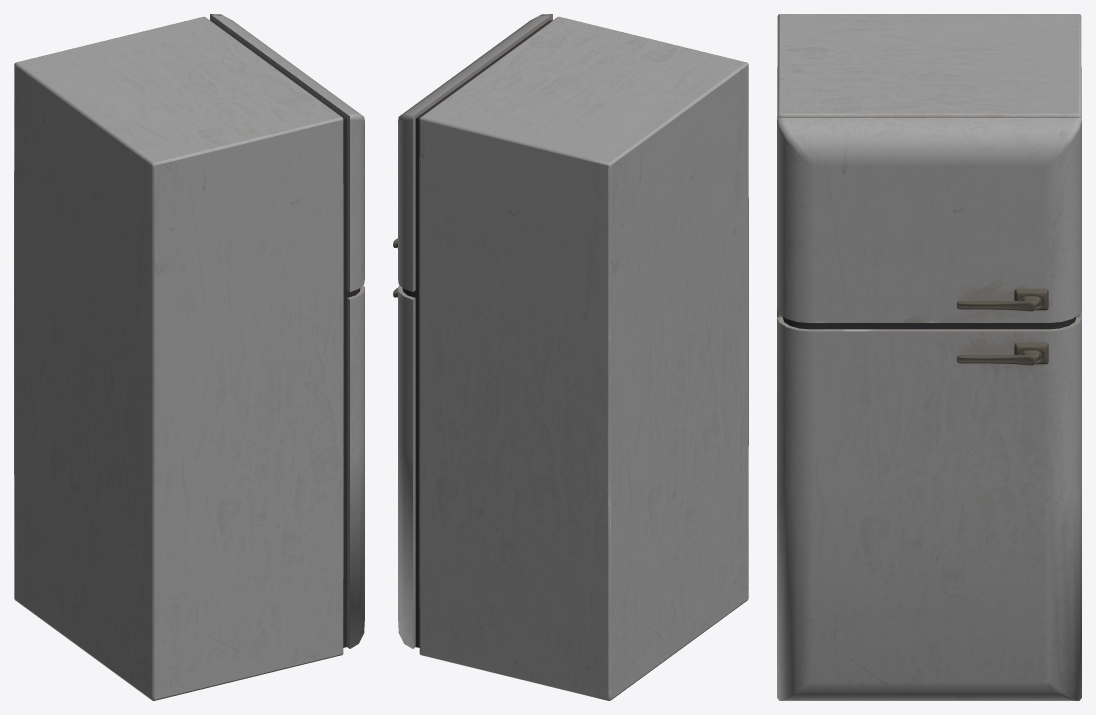
The model's file is old_fridge.glb.
3 renders of one model, left to right at view 1: azimuth 30°, elevation 25°; view 2: azimuth 150°, elevation 25°; view 3: azimuth 270°, elevation 25°, orthographic. The views are drawn at different scales.
Visible parts, largest first — view 1: OldFridge.fbx_Shell_0, Fridge_BottomDoor, Fridge_TopDoor; view 2: OldFridge.fbx_Shell_0, Fridge_BottomDoor, Fridge_TopDoor; view 3: Fridge_BottomDoor, Fridge_TopDoor, OldFridge.fbx_Shell_0.
Boxes of the visible parts, box(x1,y1,x2,y2) form: OldFridge.fbx_Shell_0: box(14, 16, 343, 700); Fridge_BottomDoor: box(343, 285, 364, 648); Fridge_TopDoor: box(210, 14, 364, 294); OldFridge.fbx_Shell_0: box(419, 16, 748, 700); Fridge_BottomDoor: box(393, 285, 419, 648); Fridge_TopDoor: box(393, 14, 552, 294); Fridge_BottomDoor: box(777, 317, 1081, 700); Fridge_TopDoor: box(777, 117, 1081, 325); OldFridge.fbx_Shell_0: box(777, 14, 1081, 317).
Size of the model in its own units: 5.5 by 11.88 by 5.6.
4 materials, 4 textured.
